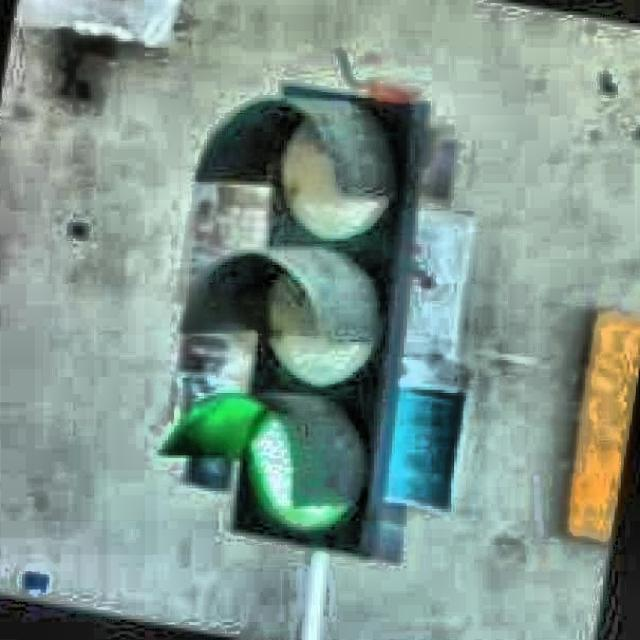green: (207, 78, 419, 558)
